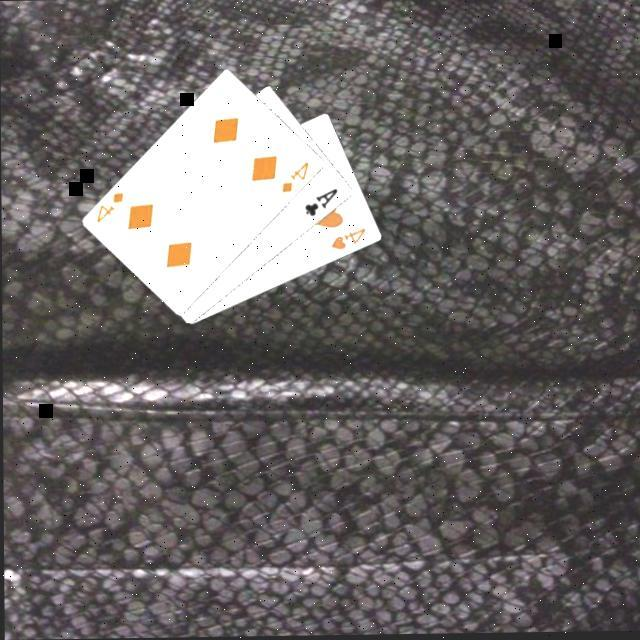4D: (278, 156, 312, 194), (92, 186, 125, 224)
4H: (326, 224, 368, 252)
AC: (300, 184, 340, 218)
